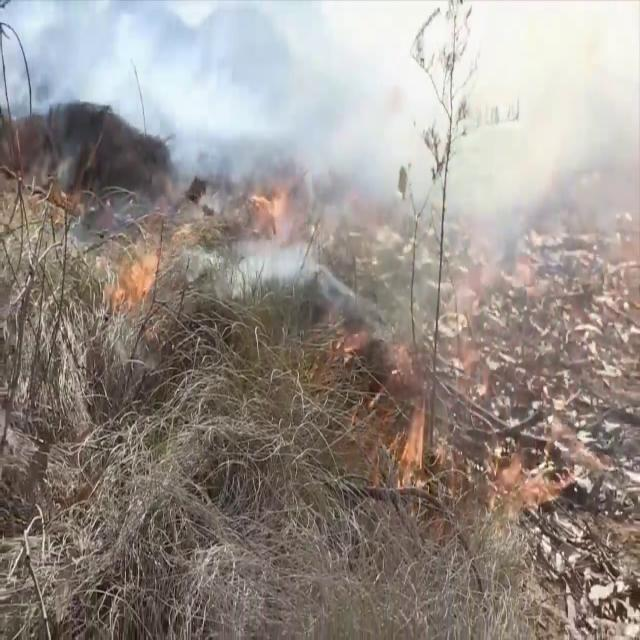Smoke: (231, 1, 640, 364)
